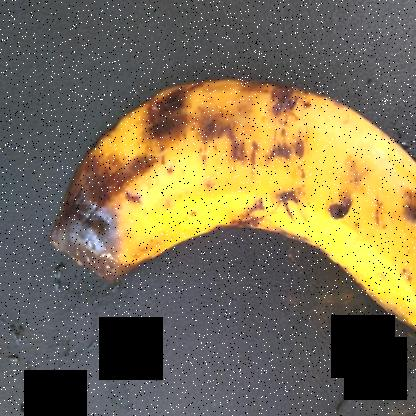overripe: (174, 41, 415, 362)
rotten: (46, 61, 264, 290)
